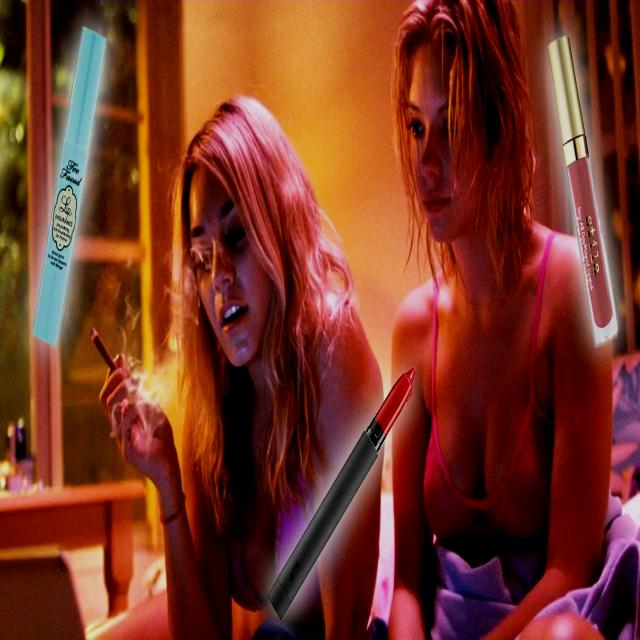Smooking: (80, 317, 113, 381)
